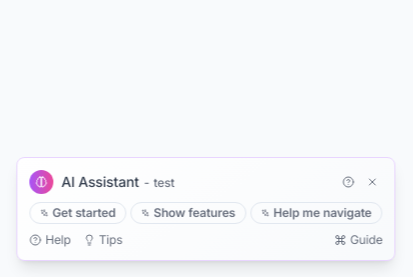
Test: AIContextToolbar › should open help panel when AI button is clicked
Click the button titled "Expand" at (349, 182), box [339, 172, 359, 192]
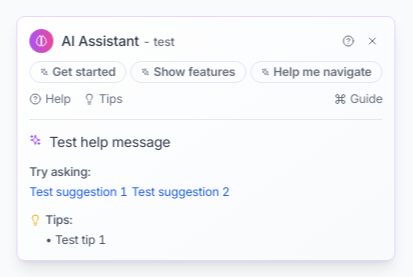
expect the text "Test help message" is shown: met, box [49, 132, 170, 152]
